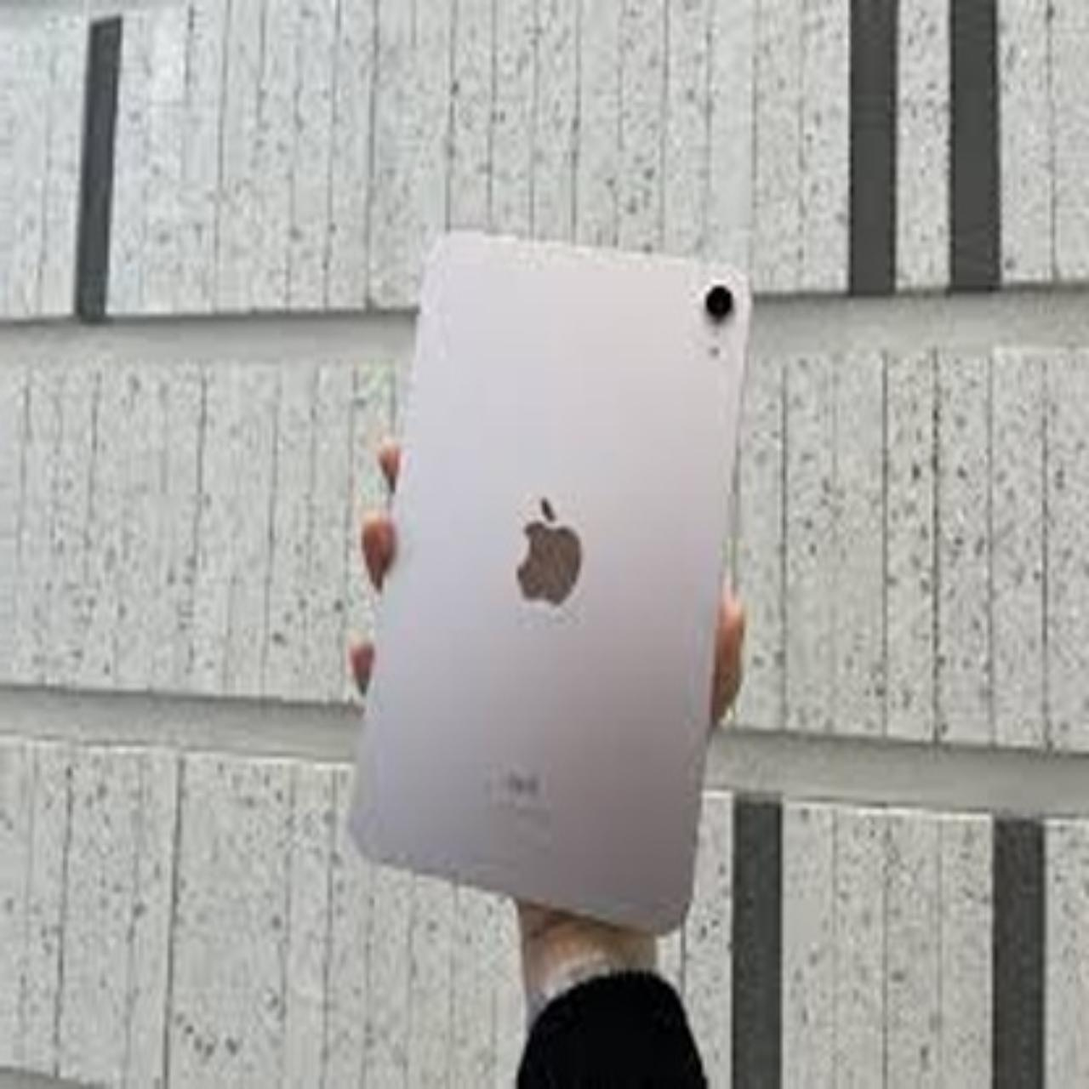Tablet_PC: (330, 225, 778, 947)
